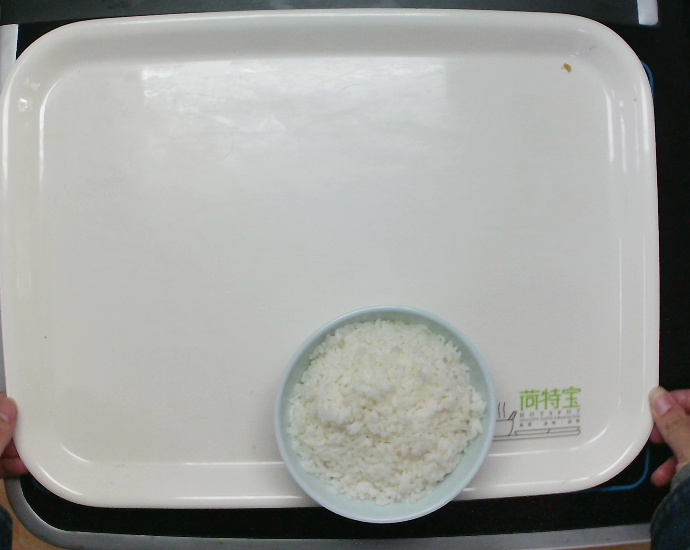JYsf-Fan_Wan: (271, 302, 498, 525)
